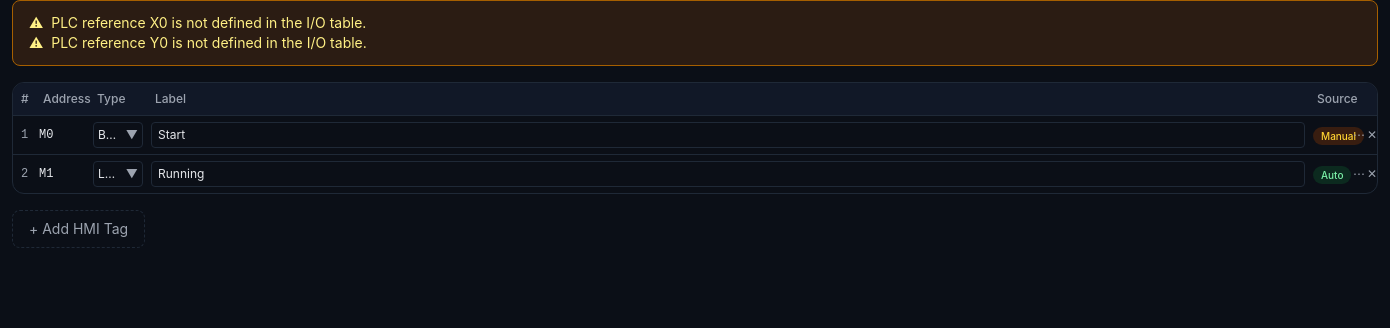
Test: HMITagTable › renders existing tags with correct type and label
Expected: the text "M0" is shown, [35, 116, 89, 154]
Expected: the text "M1" is shown, [35, 154, 89, 193]
Click the button with test id "hmi-more-0" at (1359, 135), box [1353, 123, 1365, 147]
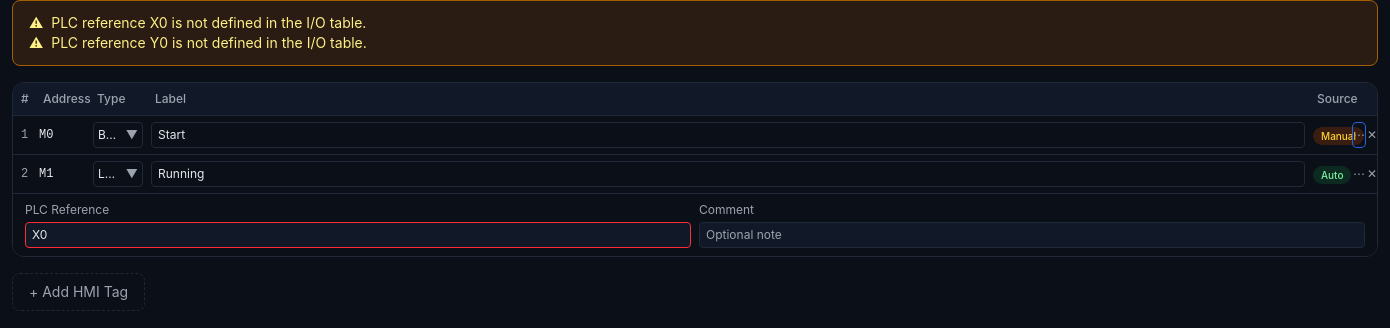
Result: the field with test id "hmi-plcref-0" holds "X0" at [25, 222, 691, 248]
